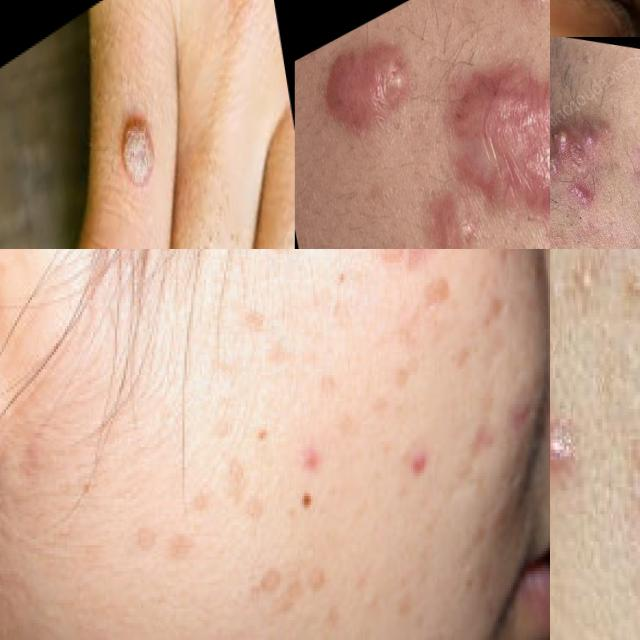comedone: (560, 174, 595, 212)
cystic: (550, 91, 597, 172), (514, 0, 550, 39)
flat_wart: (110, 92, 162, 206)
keloid: (425, 3, 550, 249), (314, 12, 427, 160), (424, 182, 460, 249)
pustule: (550, 374, 584, 507)
